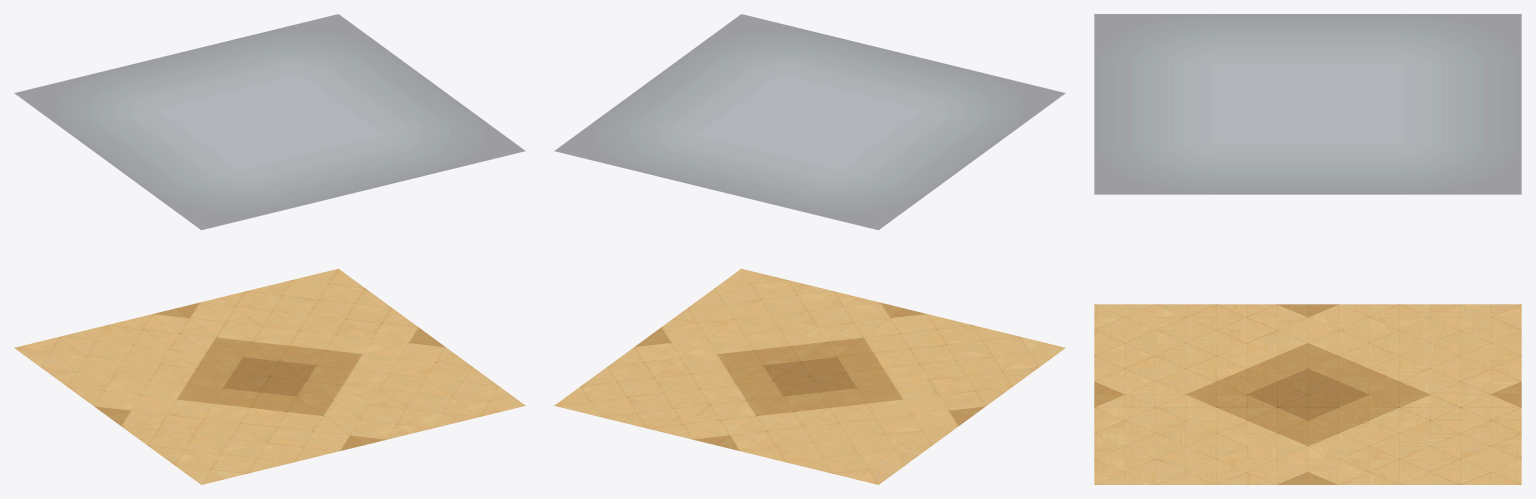
Rendered from InteriorFloor (merge).fbx.
The picture shows the model from 3 angles, left to right: view 1: azimuth 30°, elevation 25°; view 2: azimuth 150°, elevation 25°; view 3: azimuth 270°, elevation 25°; orthographic projection. The views are drawn at different scales.
Visible parts, largest first — view 1: InteriorFloor, Ceiling; view 2: InteriorFloor, Ceiling; view 3: InteriorFloor, Ceiling.
Boxes of the visible parts, x1=… form: InteriorFloor: x1=14, y1=268, x2=525, y2=484; Ceiling: x1=14, y1=14, x2=525, y2=230; InteriorFloor: x1=554, y1=268, x2=1065, y2=484; Ceiling: x1=554, y1=14, x2=1065, y2=230; InteriorFloor: x1=1094, y1=304, x2=1521, y2=484; Ceiling: x1=1094, y1=14, x2=1521, y2=194.
Bounding box in the file's own units: 4 × 3 × 4.
Materials: 2 (2 with a texture image).
